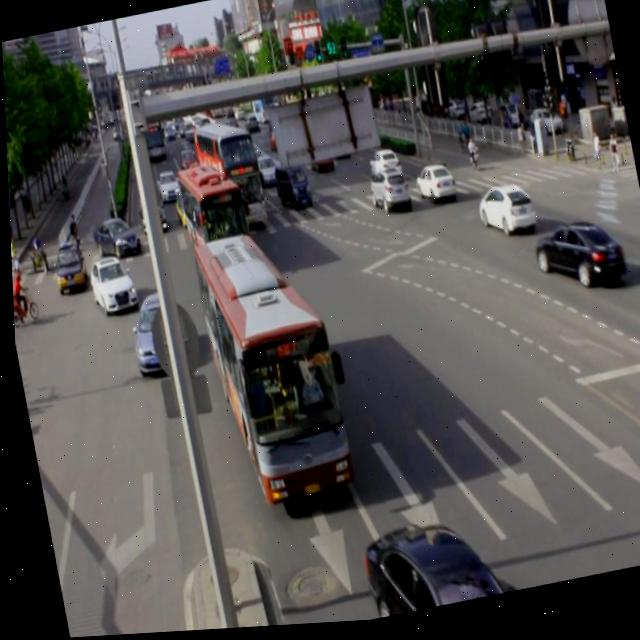car: (354, 511, 514, 624), (525, 218, 625, 303), (123, 288, 187, 378), (472, 185, 535, 244), (84, 253, 137, 319), (365, 168, 410, 220), (410, 164, 455, 208)
van: (189, 225, 350, 511)
